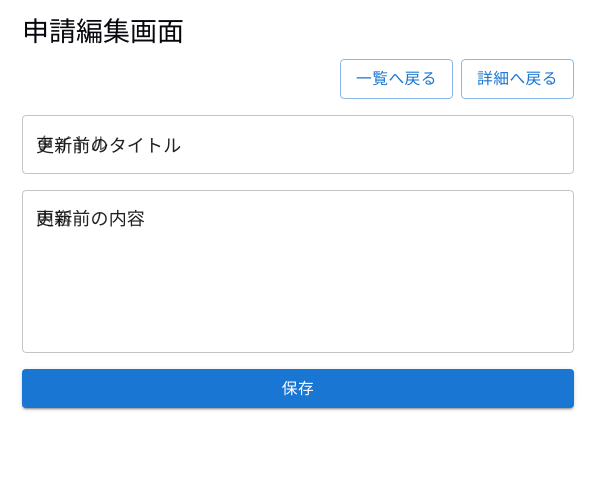
it: ApplicationEditPage › 申請の更新に失敗した場合、エラーメッセージを表示して編集画面に留まること
Click the button "保存".
click(298, 389)  # box [22,369,574,408]
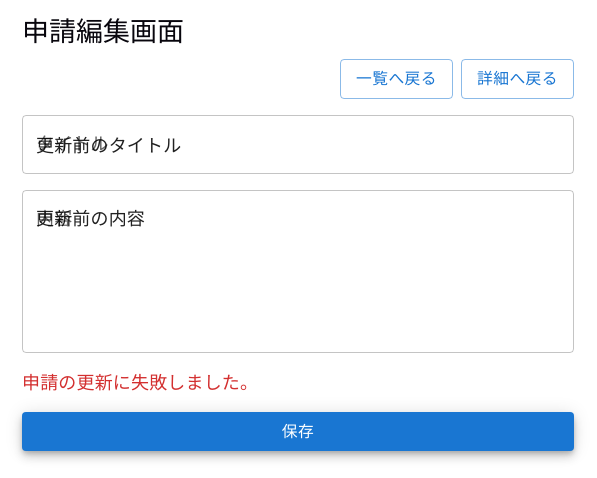
Expected: the heading "申請編集画面" is shown, [22,16,184,48]
Expected: the text "申請の更新に失敗しました。" is shown, [22,372,258,393]
